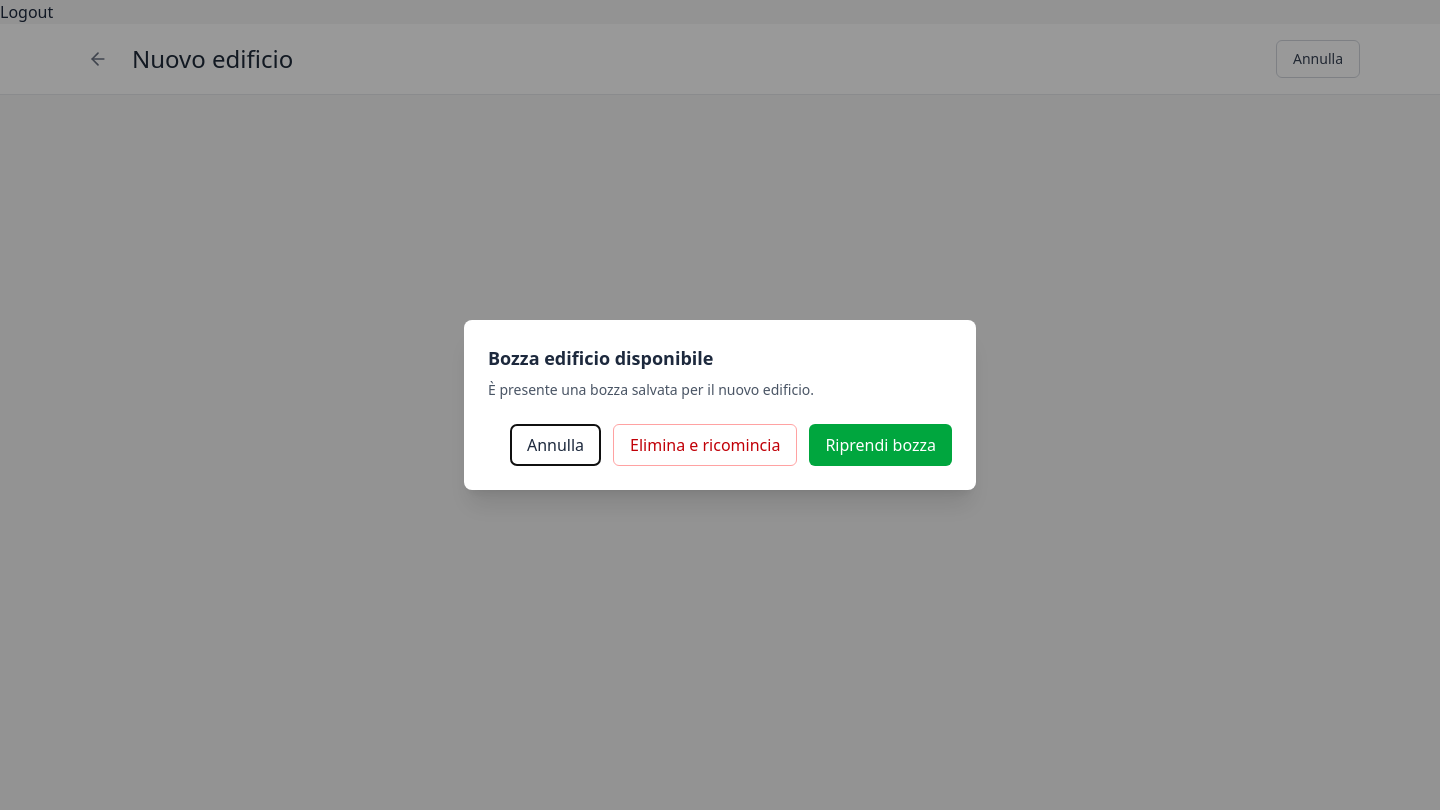
Test: Nuovo edificio draft, guard e recovery › presenta scelta esplicita e riprende clean senza write
The image size is (1440, 810).
Expected: the heading "Bozza edificio disponibile" is shown, [488,346,713,370]
Click the button "Riprendi bozza" at (881, 445), box [809,424,952,466]
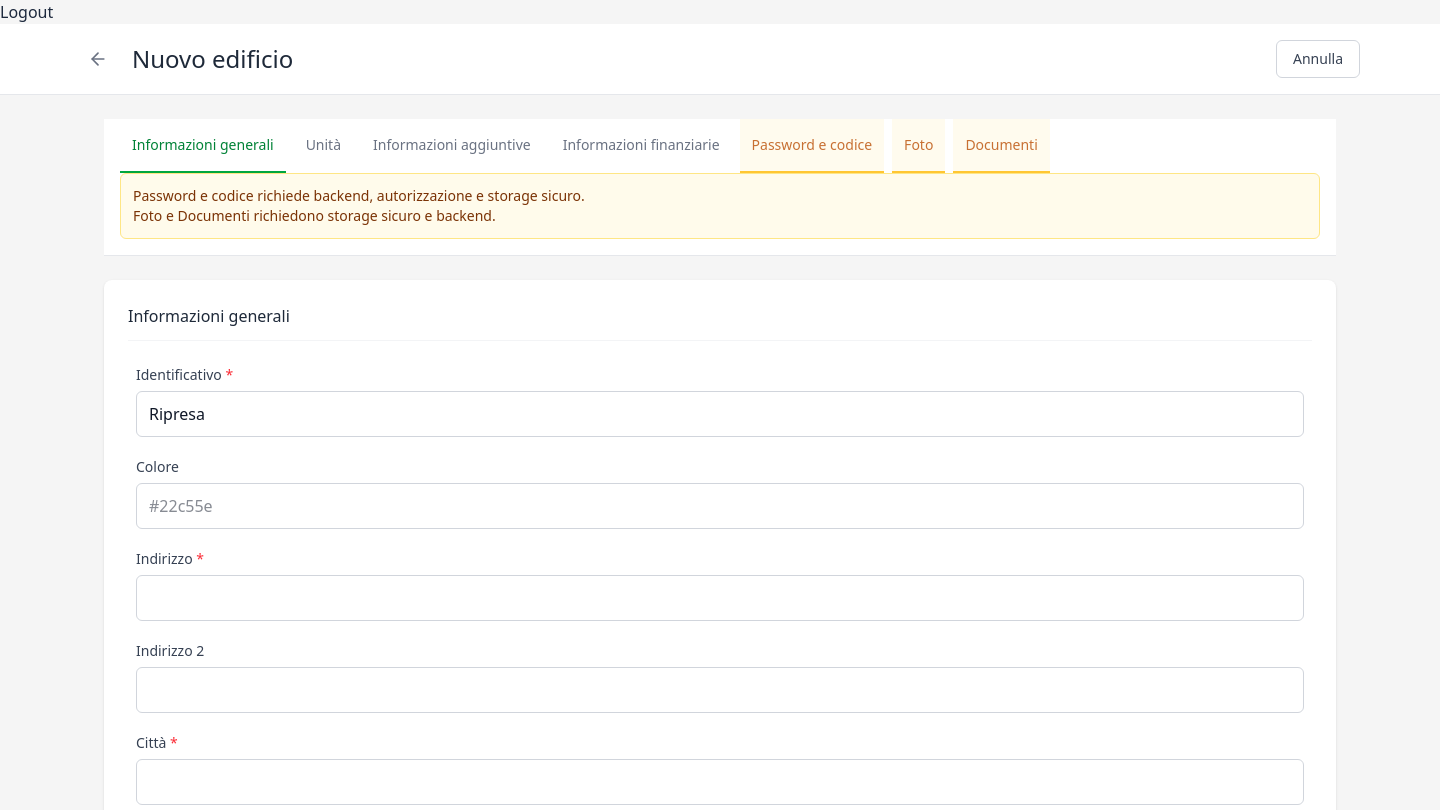
Expected: the field with id "identifier" holds "Ripresa", [136,391,1304,437]
